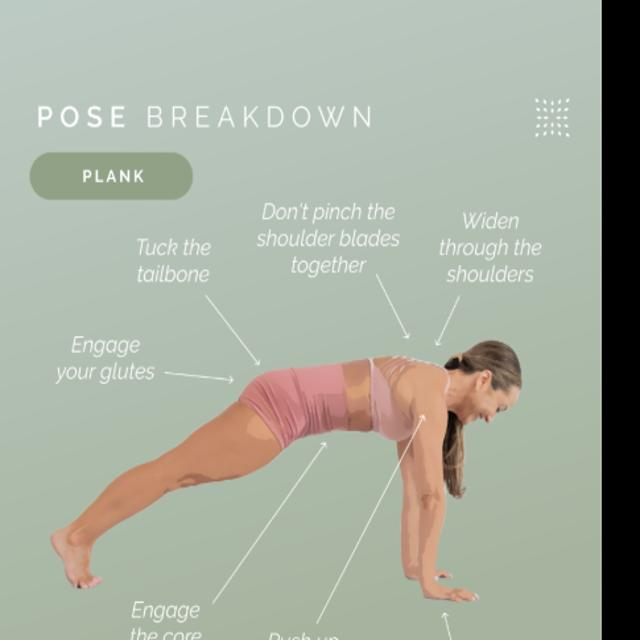Plank_Pose: (53, 332, 528, 606)
